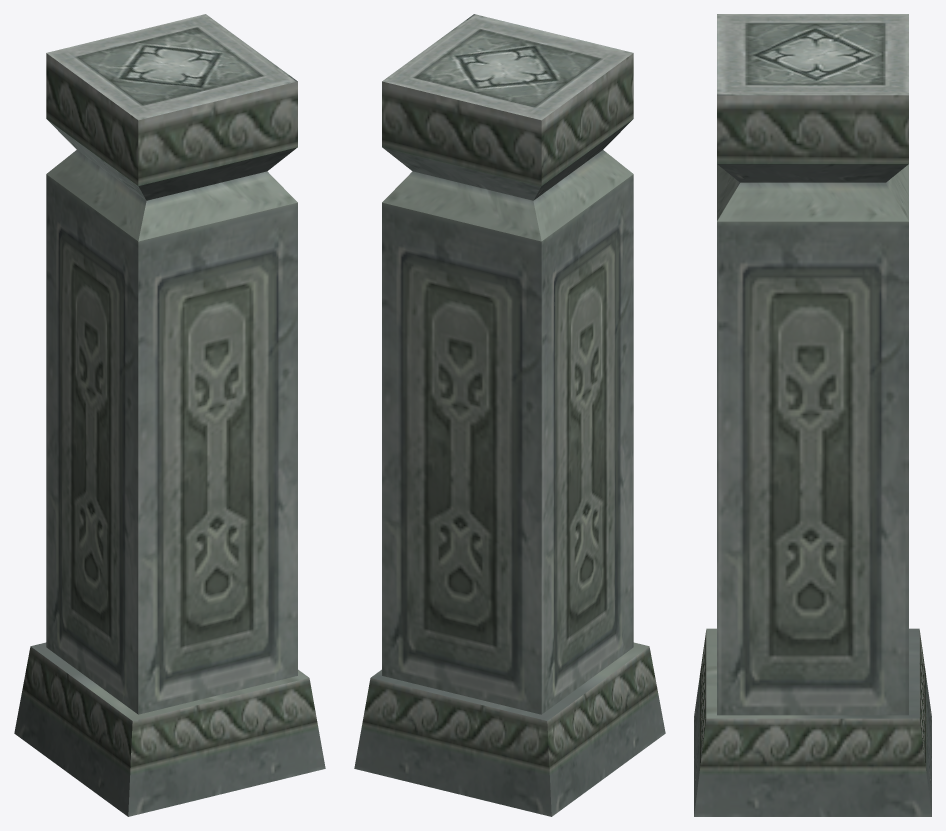
File: szc_object_06a_01a.FBX
3 renders of one model, left to right at view 1: azimuth 30°, elevation 25°; view 2: azimuth 150°, elevation 25°; view 3: azimuth 270°, elevation 25°, orthographic. The views are drawn at different scales.
Parts seen in each view (by area): view 1: szc_object_06a_003; view 2: szc_object_06a_003; view 3: szc_object_06a_003.
Part boxes in pixels (left/top/right/bottom): szc_object_06a_003: left=14, top=14, right=325, bottom=816; szc_object_06a_003: left=354, top=14, right=665, bottom=816; szc_object_06a_003: left=694, top=14, right=931, bottom=816.
Size of the model in its own units: 23.05 by 76.26 by 23.05.
